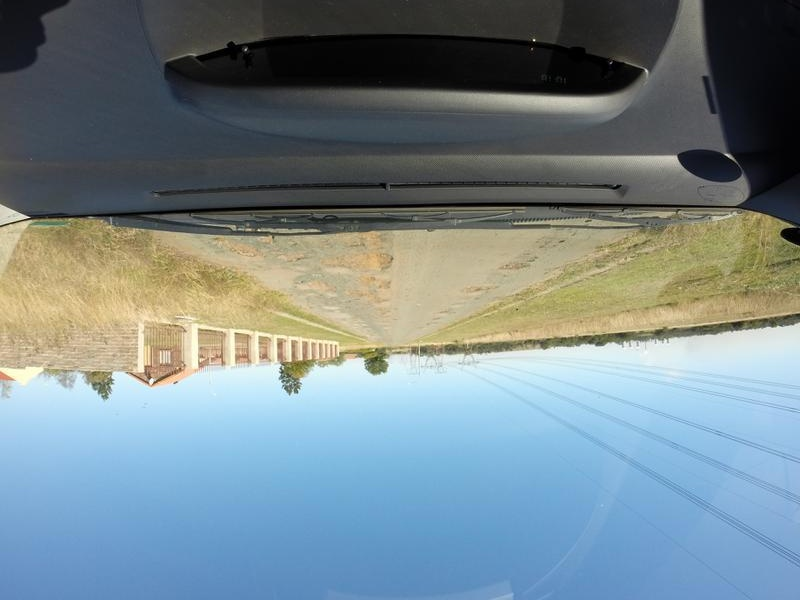pothole: (318, 249, 391, 274), (278, 276, 333, 299), (350, 277, 399, 297), (215, 237, 257, 260), (530, 226, 566, 249), (490, 256, 529, 273), (453, 281, 496, 295), (275, 248, 306, 267), (438, 298, 470, 311)
